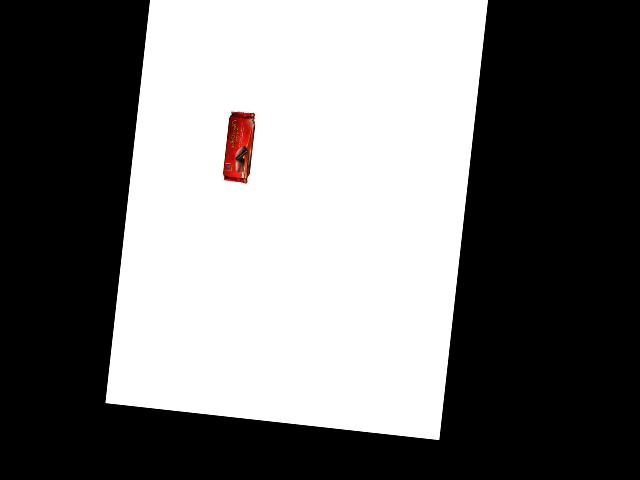chocolate: (221, 109, 262, 185)
